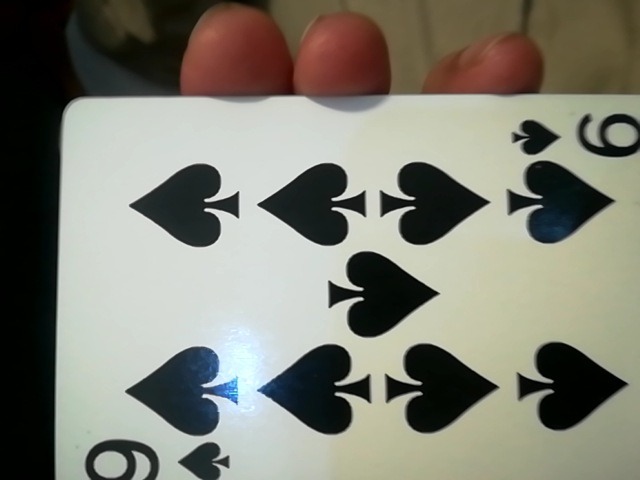ht 9: (43, 109, 637, 478)
